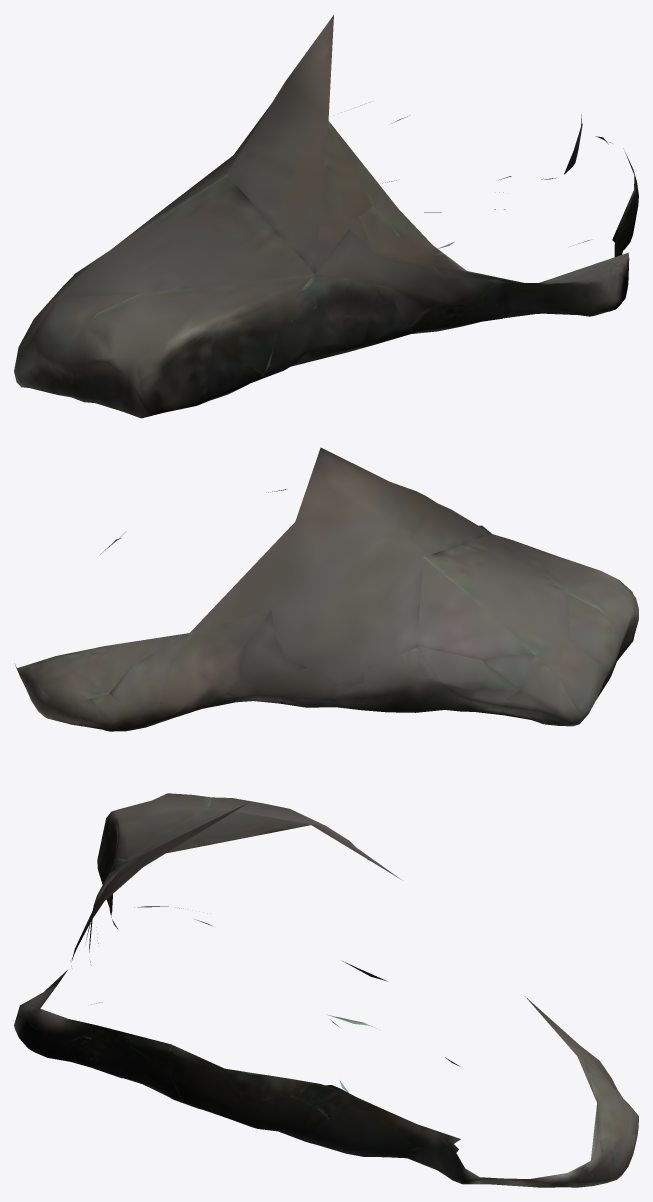
The model's file is hall.glb.
3 views of the same model, one above another, from view 1: azimuth 30°, elevation 25°; view 2: azimuth 150°, elevation 25°; view 3: azimuth 270°, elevation 25° (orthographic). The views are drawn at different scales.
Bounding box in the file's own units: 0.6044 × 0.2757 × 0.4966.
1 material, 1 textured.
